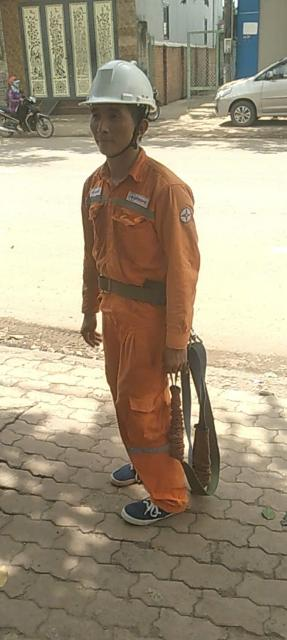harness: (79, 265, 196, 324)
helmet: (75, 62, 159, 114)
shoes: (107, 486, 208, 528), (93, 451, 161, 485)
